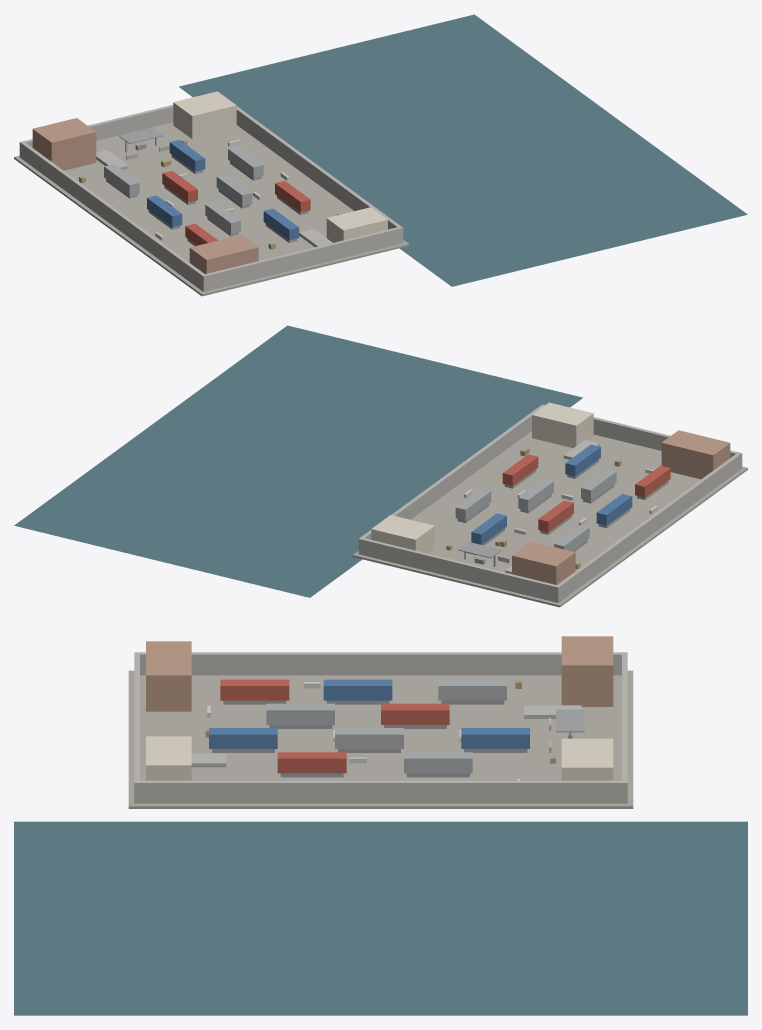
The model's file is render.glb.
3 renders of one model, top to bottom at view 1: azimuth 30°, elevation 25°; view 2: azimuth 150°, elevation 25°; view 3: azimuth 270°, elevation 25°, orthographic. The views are drawn at different scales.
Visible parts, largest first — view 1: water_sea, ground_quay, blk_concrete_00, bld_024_brick, bld_025_plaster, blk_containerGrey_09, blk_containerBlue_07, blk_containerRed_05, blk_steelPlate_04; view 2: water_sea, ground_quay, blk_concrete_00, bld_024_brick, bld_025_plaster, blk_containerGrey_09, blk_containerRed_05, blk_containerBlue_07, blk_steelPlate_04; view 3: water_sea, ground_quay, blk_concrete_00, bld_024_brick, blk_containerGrey_09, blk_containerRed_05, blk_containerBlue_07, bld_025_plaster, blk_steelPlate_04.
Boxes of the visible parts, x1,y1,x2,y2 form: water_sea: [179, 14, 747, 286]; ground_quay: [14, 122, 409, 296]; blk_concrete_00: [19, 105, 403, 291]; bld_024_brick: [32, 118, 258, 273]; bld_025_plaster: [173, 91, 387, 242]; blk_containerGrey_09: [104, 146, 263, 233]; blk_containerBlue_07: [147, 140, 299, 240]; blk_containerRed_05: [162, 170, 310, 245]; blk_steelPlate_04: [106, 127, 308, 245]; water_sea: [14, 325, 582, 597]; ground_quay: [352, 431, 747, 607]; blk_concrete_00: [358, 404, 742, 602]; bld_024_brick: [512, 430, 730, 584]; bld_025_plaster: [371, 402, 593, 553]; blk_containerGrey_09: [455, 469, 616, 551]; blk_containerRed_05: [502, 454, 670, 532]; blk_containerBlue_07: [471, 444, 632, 544]; blk_steelPlate_04: [457, 459, 668, 566]; water_sea: [14, 821, 747, 1015]; ground_quay: [128, 670, 633, 808]; blk_concrete_00: [134, 652, 627, 803]; bld_024_brick: [146, 636, 613, 711]; blk_containerGrey_09: [266, 679, 506, 773]; blk_containerRed_05: [220, 679, 449, 773]; blk_containerBlue_07: [209, 679, 529, 748]; bld_025_plaster: [146, 736, 613, 780]; blk_steelPlate_04: [212, 700, 584, 777].
Size of the model in its own units: 136 by 11.01 by 128.
